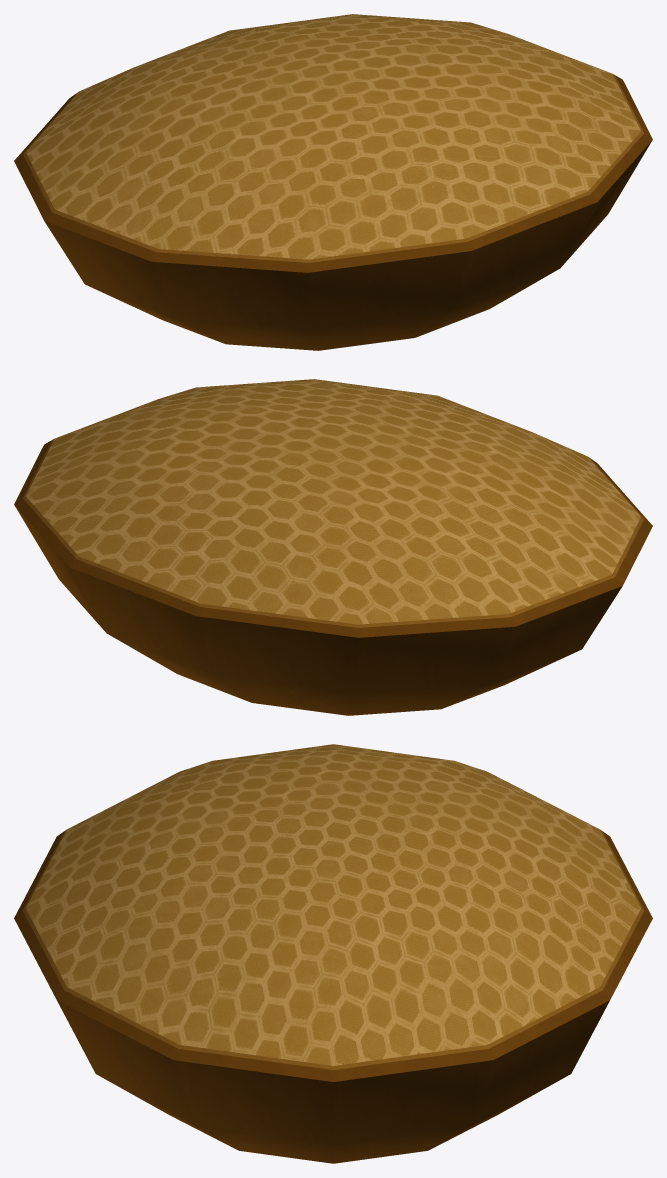
File: panal.fbx
3 renders of one model, top to bottom at view 1: azimuth 30°, elevation 25°; view 2: azimuth 150°, elevation 25°; view 3: azimuth 270°, elevation 25°, orthographic. The views are drawn at different scales.
Visible parts, largest first — view 1: OilTank001; view 2: OilTank001; view 3: OilTank001.
Part boxes in pixels (x1,y1,x2,y2): OilTank001: (14,14,652,350); OilTank001: (14,379,652,715); OilTank001: (14,744,652,1163).
Bounding box in the file's own units: 204 × 88.49 × 168.
Materials: 1 (1 with a texture image).
